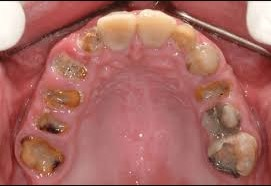UL1BC_decay: (195, 78, 233, 104)
UL1M_decay: (207, 138, 265, 177)
UL2BC_decay: (204, 104, 243, 139)
ULCI_healthy: (138, 9, 176, 52)
ULC_decay: (190, 46, 219, 76)
ULLI_healthy: (176, 24, 197, 51)
UR1BC_decay: (44, 85, 84, 110)
UR1M_decay: (19, 137, 67, 176)
UR2BC_decay: (35, 107, 74, 140)
URCI_healthy: (99, 12, 137, 50)
URC_decay: (50, 51, 89, 83)
URLI_decay: (76, 27, 101, 58)
